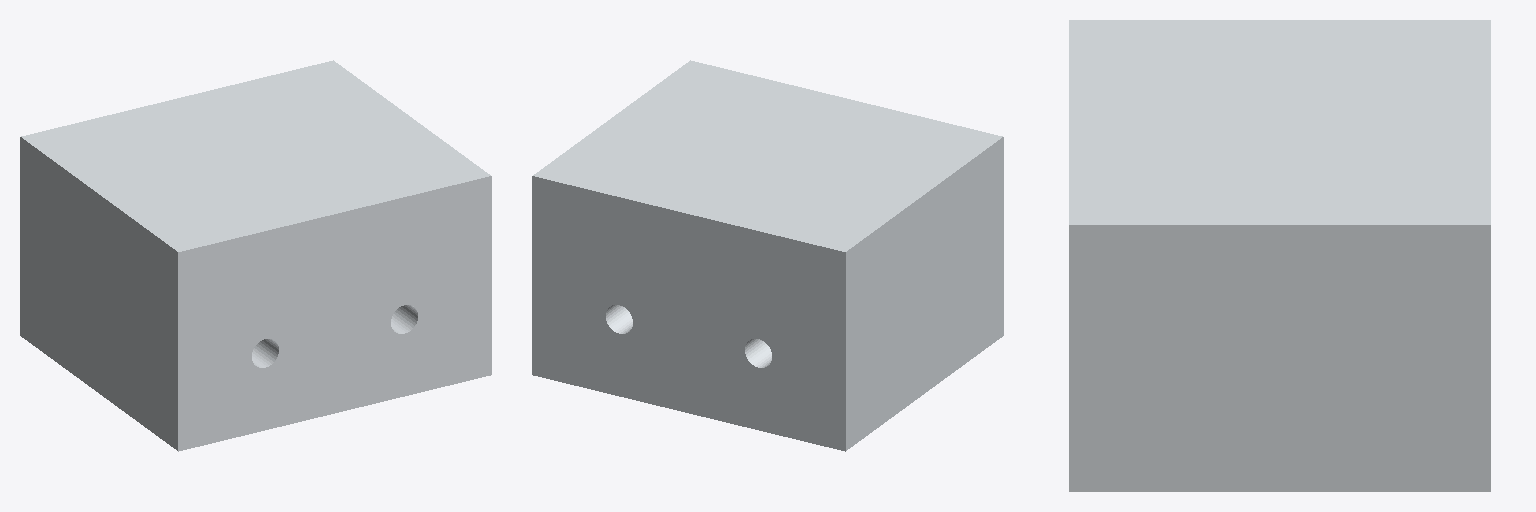
robot.urdf — GantryAssembly_NoGrasper:
<?xml version="1.0" encoding="utf-8"?>
<!-- This URDF was automatically created by SolidWorks to URDF Exporter! Originally created by [author] ([email redacted]) 
     Commit Version: 1.6.0-4-g7f85cfe  Build Version: 1.6.7995.38578
     For more information, please see http://wiki.ros.org/sw_urdf_exporter -->
<robot
  name="GantryAssembly_NoGrasper">
  <link
    name="base_link_gantry">
    <inertial>
      <origin
        xyz="-1.6791E-16 -0.041985 0.017902"
        rpy="0 0 0" />
      <mass
        value="5.7776" />
      <inertia
        ixx="0.32319"
        ixy="1.4897E-16"
        ixz="3.4335E-19"
        iyy="0.27326"
        iyz="1.3637E-17"
        izz="0.59578" />
    </inertial>
    <visual>
      <origin
        xyz="0 0 0"
        rpy="0 0 0" />
      <geometry>
        <mesh
          filename="package://GantryAssembly_NoGrasper/meshes/base_link.STL" />
      </geometry>
      <material
        name="">
        <color
          rgba="0.89804 0.91765 0.92941 1" />
      </material>
    </visual>
    <collision>
      <origin
        xyz="0 0 0"
        rpy="0 0 0" />
      <geometry>
        <mesh
          filename="package://GantryAssembly_NoGrasper/meshes/base_link.STL" />
      </geometry>
    </collision>
  </link>
  <link
    name="LeftUpright">
    <inertial>
      <origin
        xyz="-0.28158 0.35631 -0.041985"
        rpy="0 0 0" />
      <mass
        value="1.4886" />
      <inertia
        ixx="0.056019"
        ixy="3.4202E-18"
        ixz="9.9359E-20"
        iyy="0.00025146"
        iyz="2.1542E-19"
        izz="0.056166" />
    </inertial>
    <visual>
      <origin
        xyz="0 0 0"
        rpy="0 0 0" />
      <geometry>
        <mesh
          filename="package://GantryAssembly_NoGrasper/meshes/LeftUpright.STL" />
      </geometry>
      <material
        name="">
        <color
          rgba="0.89804 0.91765 0.92941 1" />
      </material>
    </visual>
    <collision>
      <origin
        xyz="0 0 0"
        rpy="0 0 0" />
      <geometry>
        <mesh
          filename="package://GantryAssembly_NoGrasper/meshes/LeftUpright.STL" />
      </geometry>
    </collision>
  </link>
  <joint
    name="LeftUprightJoint"
    type="fixed">
    <origin
      xyz="0 -0.041985 0"
      rpy="1.5708 0 0" />
    <parent
      link="base_link_gantry" />
    <child
      link="LeftUpright" />
    <axis
      xyz="0 0 0" />
  </joint>
  <link
    name="ZBar">
    <inertial>
      <origin
        xyz="2.2859E-15 0.010235 -0.041985"
        rpy="0 0 0" />
      <mass
        value="0.92261" />
      <inertia
        ixx="0.00010656"
        ixy="-4.2485E-20"
        ixz="3.0106E-18"
        iyy="0.023961"
        iyz="2.4839E-21"
        izz="0.023919" />
    </inertial>
    <visual>
      <origin
        xyz="0 0 0"
        rpy="0 0 0" />
      <geometry>
        <mesh
          filename="package://GantryAssembly_NoGrasper/meshes/ZBar.STL" />
      </geometry>
      <material
        name="">
        <color
          rgba="0.89412 0.91373 0.92941 1" />
      </material>
    </visual>
    <collision>
      <origin
        xyz="0 0 0"
        rpy="0 0 0" />
      <geometry>
        <mesh
          filename="package://GantryAssembly_NoGrasper/meshes/ZBar.STL" />
      </geometry>
    </collision>
  </link>
  <joint
    name="ZBar_Joint"
    type="prismatic">
    <origin
      xyz="0 0.56296 0"
      rpy="0 0 0" />
    <parent
      link="LeftUpright" />
    <child
      link="ZBar" />
    <axis
      xyz="0 1 0" />
    <limit
      lower="-0.5"
      upper="0"
      effort="0"
      velocity="0" />
  </joint>
  <link
    name="GrasperBase">
    <inertial>
      <origin
        xyz="-0.028605 0.017479 2.9725E-16"
        rpy="0 0 0" />
      <mass
        value="0.26347" />
      <inertia
        ixx="8.1922E-05"
        ixy="-4.7547E-22"
        ixz="-1.6378E-21"
        iyy="0.00012733"
        iyz="-2.3683E-23"
        izz="9.9473E-05" />
    </inertial>
    <visual>
      <origin
        xyz="0 0 0"
        rpy="0 0 0" />
      <geometry>
        <mesh
          filename="package://GantryAssembly_NoGrasper/meshes/GrasperBase.STL" />
      </geometry>
      <material
        name="">
        <color
          rgba="0.89412 0.91373 0.92941 1" />
      </material>
    </visual>
    <collision>
      <origin
        xyz="0 0 0"
        rpy="0 0 0" />
      <geometry>
        <mesh
          filename="package://GantryAssembly_NoGrasper/meshes/GrasperBase.STL" />
      </geometry>
    </collision>
  </link>
  <joint
    name="GrasperBase"
    type="prismatic">
    <origin
      xyz="0.028605 -0.0348 -0.041985"
      rpy="0 0 0" />
    <parent
      link="ZBar" />
    <child
      link="GrasperBase" />
    <axis
      xyz="1 0 0" />
    <limit
      lower="-0.2"
      upper="0.2"
      effort="0"
      velocity="0" />
  </joint>
  <link
    name="RightUpright">
    <inertial>
      <origin
        xyz="0.28158 0.35631 -0.041985"
        rpy="0 0 0" />
      <mass
        value="1.4886" />
      <inertia
        ixx="0.056019"
        ixy="1.2421E-18"
        ixz="-2.2308E-19"
        iyy="0.00025146"
        iyz="1.1323E-18"
        izz="0.056166" />
    </inertial>
    <visual>
      <origin
        xyz="0 0 0"
        rpy="0 0 0" />
      <geometry>
        <mesh
          filename="package://GantryAssembly_NoGrasper/meshes/RightUpright.STL" />
      </geometry>
      <material
        name="">
        <color
          rgba="0.89804 0.91765 0.92941 1" />
      </material>
    </visual>
    <collision>
      <origin
        xyz="0 0 0"
        rpy="0 0 0" />
      <geometry>
        <mesh
          filename="package://GantryAssembly_NoGrasper/meshes/RightUpright.STL" />
      </geometry>
    </collision>
  </link>
  <joint
    name="RightUprightJoint"
    type="fixed">
    <origin
      xyz="0 -0.041985 0"
      rpy="1.5708 0 0" />
    <parent
      link="base_link_gantry" />
    <child
      link="RightUpright" />
    <axis
      xyz="0 0 0" />
    <limit
      lower="-0.5"
      upper="0.5"
      effort="0"
      velocity="0" />
    <dynamics
      damping="0"
      friction="0" />
  </joint>
  <link
    name="BasePlate">
    <inertial>
      <origin
        xyz="6.7623E-17 0.00191 -0.25718"
        rpy="0 0 0" />
      <mass
        value="2.7286" />
      <inertia
        ixx="0.06016"
        ixy="-2.384E-20"
        ixz="-5.0162E-18"
        iyy="0.12031"
        iyz="1.2088E-35"
        izz="0.06016" />
    </inertial>
    <visual>
      <origin
        xyz="0 0 0"
        rpy="0 0 0" />
      <geometry>
        <mesh
          filename="package://GantryAssembly_NoGrasper/meshes/BasePlate.STL" />
      </geometry>
      <material
        name="">
        <color
          rgba="0.89804 0.91765 0.92941 1" />
      </material>
    </visual>
    <collision>
      <origin
        xyz="0 0 0"
        rpy="0 0 0" />
      <geometry>
        <mesh
          filename="package://GantryAssembly_NoGrasper/meshes/BasePlate.STL" />
      </geometry>
    </collision>
  </link>
  <joint
    name="BasePlateJoint"
    type="prismatic">
    <origin
      xyz="0 -0.25718 0.05914"
      rpy="1.5708 0 0" />
    <parent
      link="base_link_gantry" />
    <child
      link="BasePlate" />
    <axis
      xyz="0 0 1" />
    <limit
      lower="-0.3"
      upper="0.3"
      effort="0"
      velocity="0" />
    <dynamics
      damping="0"
      friction="3" />
  </joint>
  <!-- 
  <link
    name="ObjectBase">
    <inertial>
      <origin
        xyz="2.3079E-50 0.01 3.0679E-19"
        rpy="0 0 0" />
      <mass
        value="0.03817" />
      <inertia
        ixx="3.4194E-06"
        ixy="-1.1064E-38"
        ixz="5.1616E-54"
        iyy="4.2942E-06"
        iyz="-3.4866E-39"
        izz="3.4194E-06" />
    </inertial>
    <visual>
      <origin
        xyz="0 0 0"
        rpy="0 0 0" />
      <geometry>
        <mesh
          filename="package://GantryAssembly_NoGrasper/meshes/ObjectBase.STL" />
      </geometry>
      <material
        name="">
        <color
          rgba="0.89804 0.91765 0.92941 1" />
      </material>
    </visual>
    <collision>
      <origin
        xyz="0 0 0"
        rpy="0 0 0" />
      <geometry>
        <mesh
          filename="package://GantryAssembly_NoGrasper/meshes/ObjectBase.STL" />
      </geometry>
    </collision>
  </link>
  <joint
    name="ObjectBaseJoint"
    type="fixed">
    <origin
      xyz="0 0.00382 -0.25718"
      rpy="0 0 0" />
    <parent
      link="BasePlate" />
    <child
      link="ObjectBase" />
    <axis
      xyz="0 0 0" />
  </joint>
  -->
</robot>

--- Facts derived from the render (not from the file) ---
3 views of the same robot in one strip: view 1: azimuth 30°, elevation 25°; view 2: azimuth 150°, elevation 25°; view 3: azimuth 270°, elevation 25° (orthographic).
Robot: GantryAssembly_NoGrasper — 6 links, 5 joints (3 prismatic, 2 fixed); root link base_link_gantry; default pose: every joint at zero.
Visible links, largest first — view 1: GrasperBase; view 2: GrasperBase; view 3: GrasperBase.
Link boxes in pixels (left/top/right/bottom): GrasperBase: left=20, top=60, right=491, bottom=451; GrasperBase: left=532, top=60, right=1003, bottom=451; GrasperBase: left=1069, top=20, right=1490, bottom=491.
Bounding box of the posed robot: 0.0572 × 0.05 × 0.0348 m (x, y, z).
Meshes: 6 distinct files referenced, 1 mesh visuals loaded (1 binary STL); not drawn: 5 (reference not matched to a file when rendering).